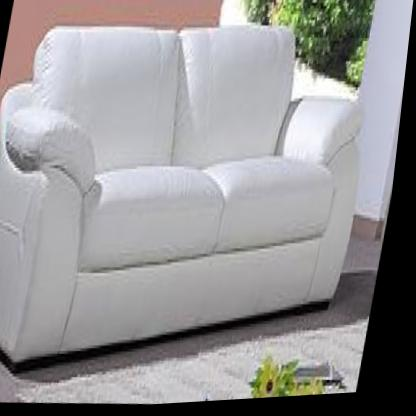Sofa: (0, 0, 392, 396)
